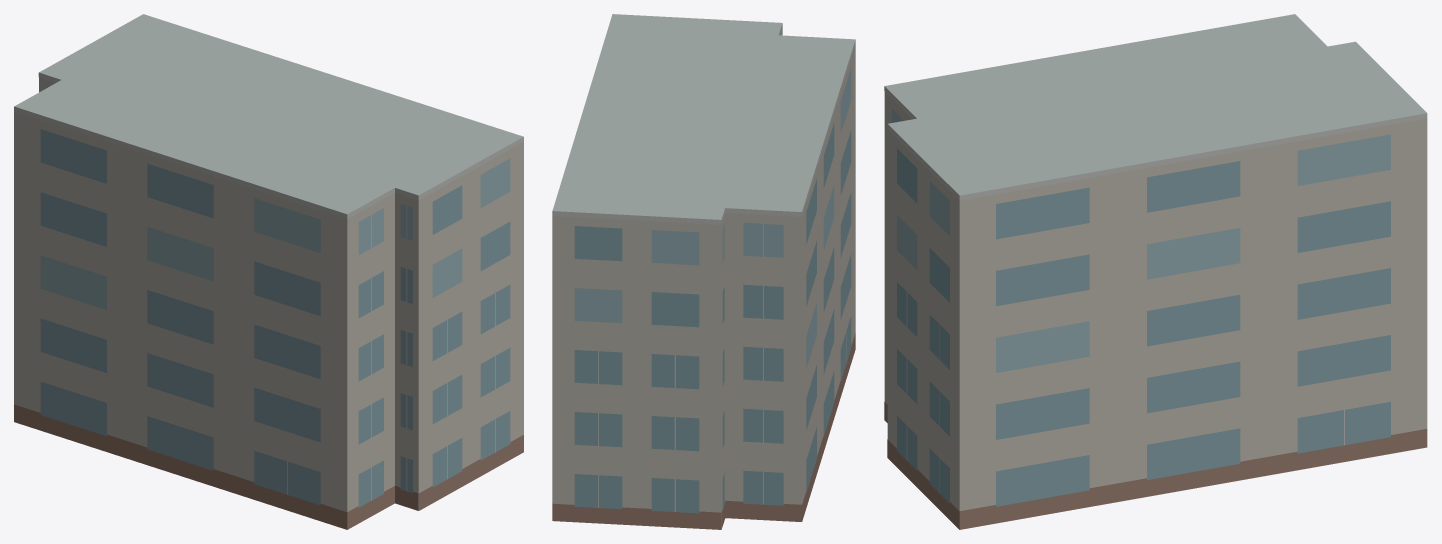
The model's file is survey-upis-32678881.glb.
The picture shows the model from 3 angles, left to right: view 1: azimuth 30°, elevation 25°; view 2: azimuth 150°, elevation 25°; view 3: azimuth 270°, elevation 25°; orthographic projection. The views are drawn at different scales.
Visible parts, largest first — view 1: survey-upis-32678881.tmp; view 2: survey-upis-32678881.tmp; view 3: survey-upis-32678881.tmp.
Part boxes in pixels (x1,y1,x2,y2): survey-upis-32678881.tmp: [14, 14, 523, 529]; survey-upis-32678881.tmp: [552, 14, 855, 529]; survey-upis-32678881.tmp: [884, 14, 1427, 529].
Size of the model in its own units: 18.07 by 15.5 by 22.82.
